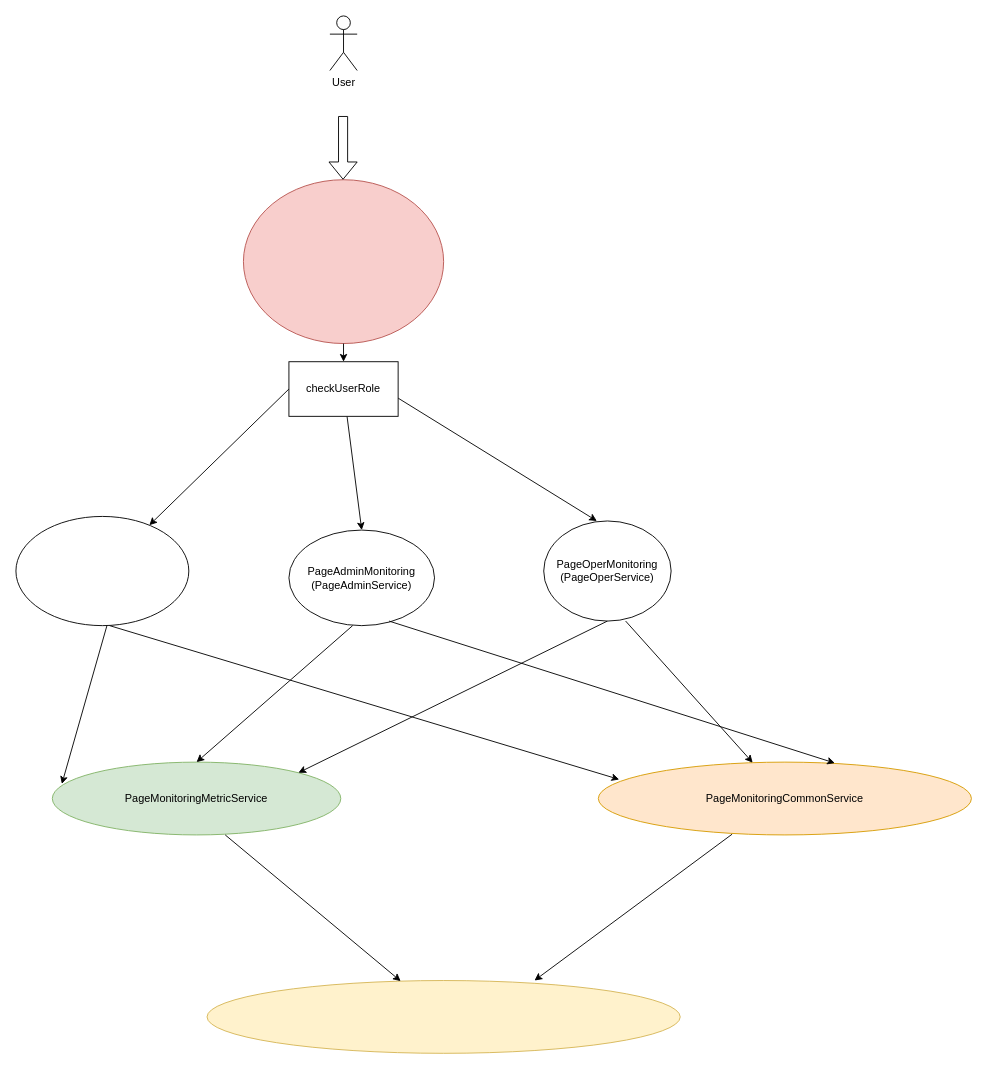
Some shapes in this 987 by 1069 pixel diagram are drawn without their labels. The centre of each missing label's shape, as x and y in pixels:
PageDevMonitoring (PageDevService): point (102, 571)
PageMonitringMain: point (343, 261)
serviceMC: point (443, 1016)
